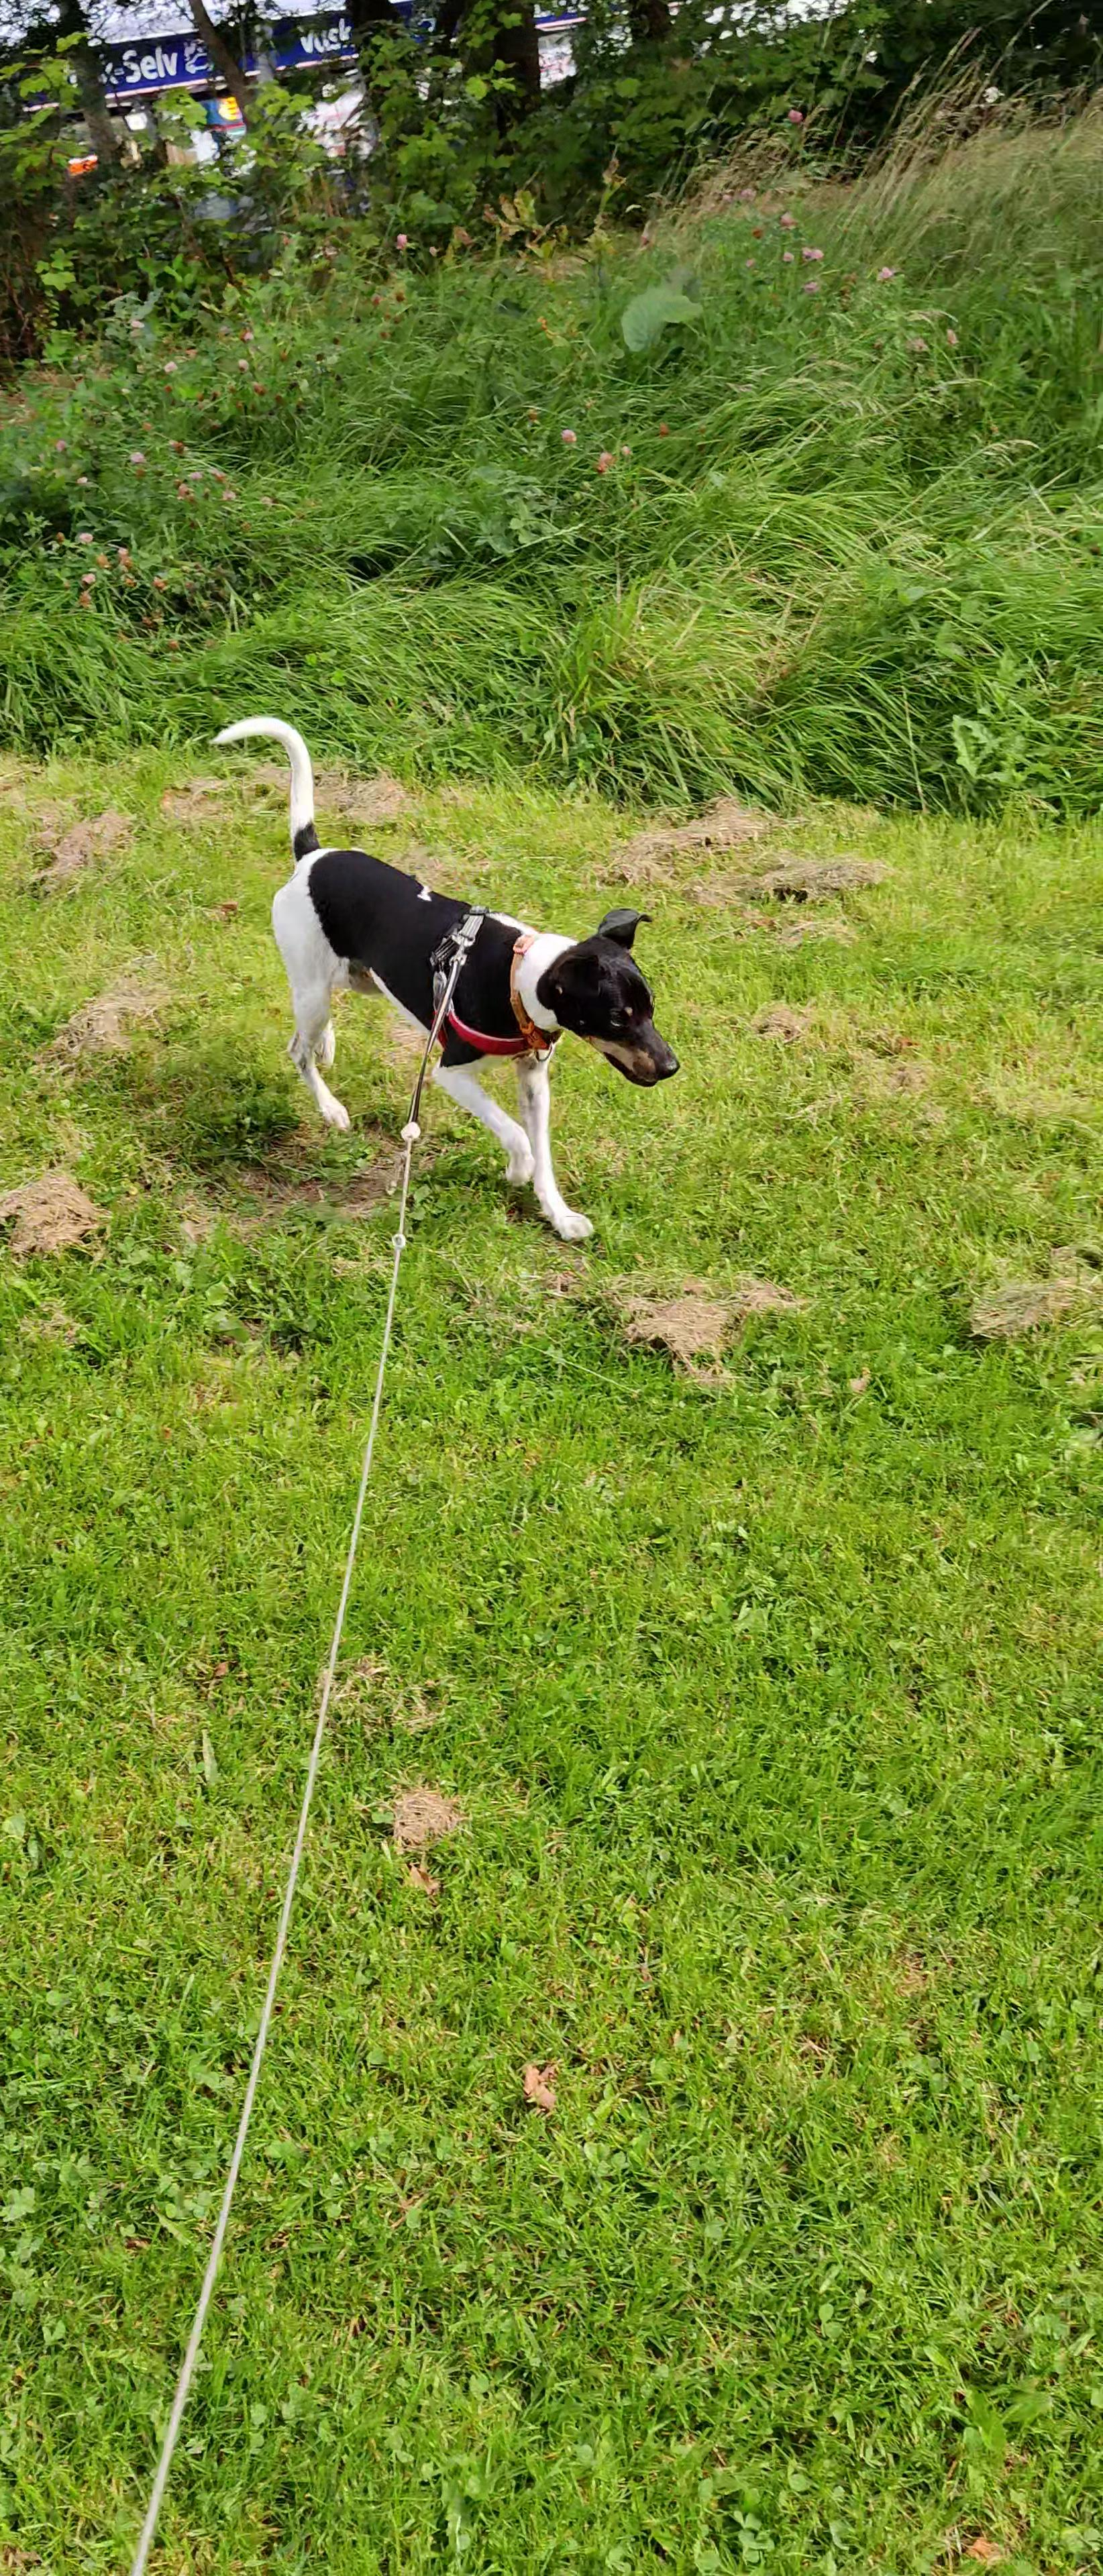Dog: (187, 698, 687, 1249)
